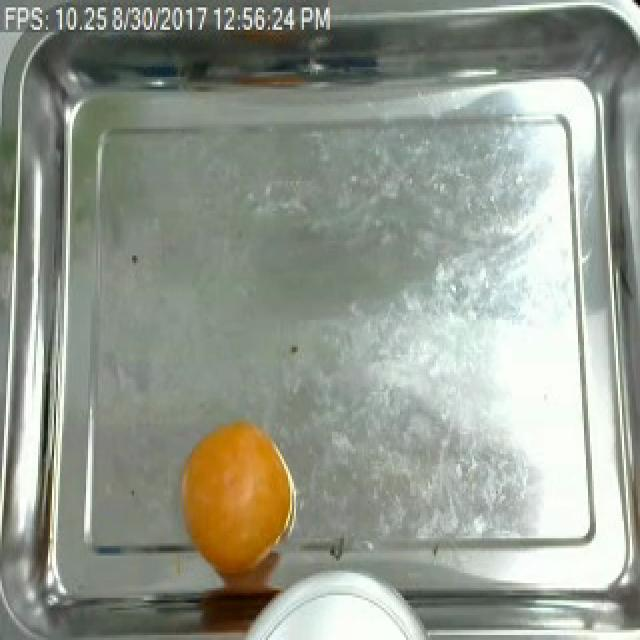Fruit: (178, 417, 298, 573)
